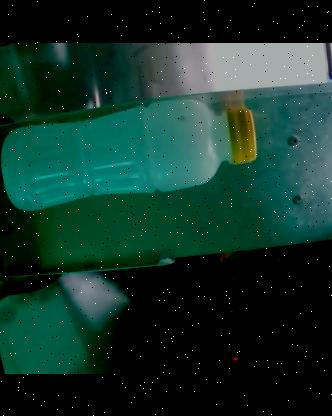Plastic Bottle: (1, 97, 258, 210)
